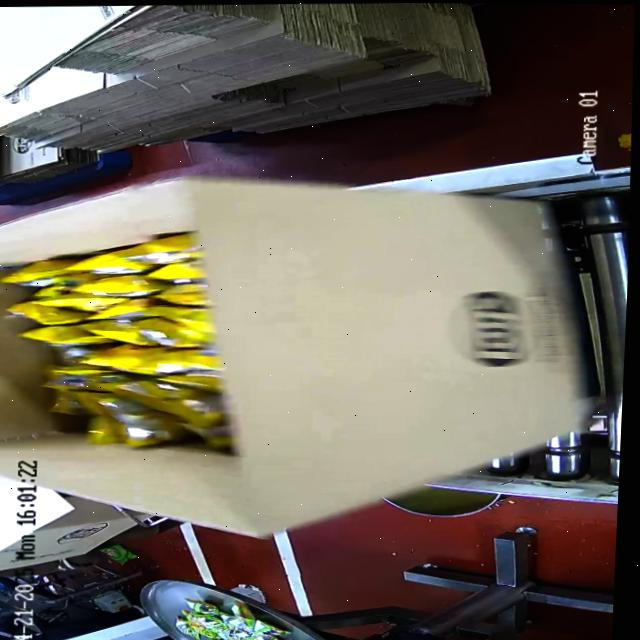SALTED: (31, 239, 210, 451)
